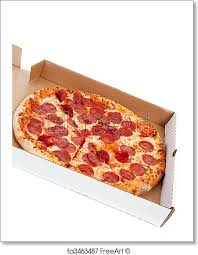pizza: (17, 85, 168, 189)
